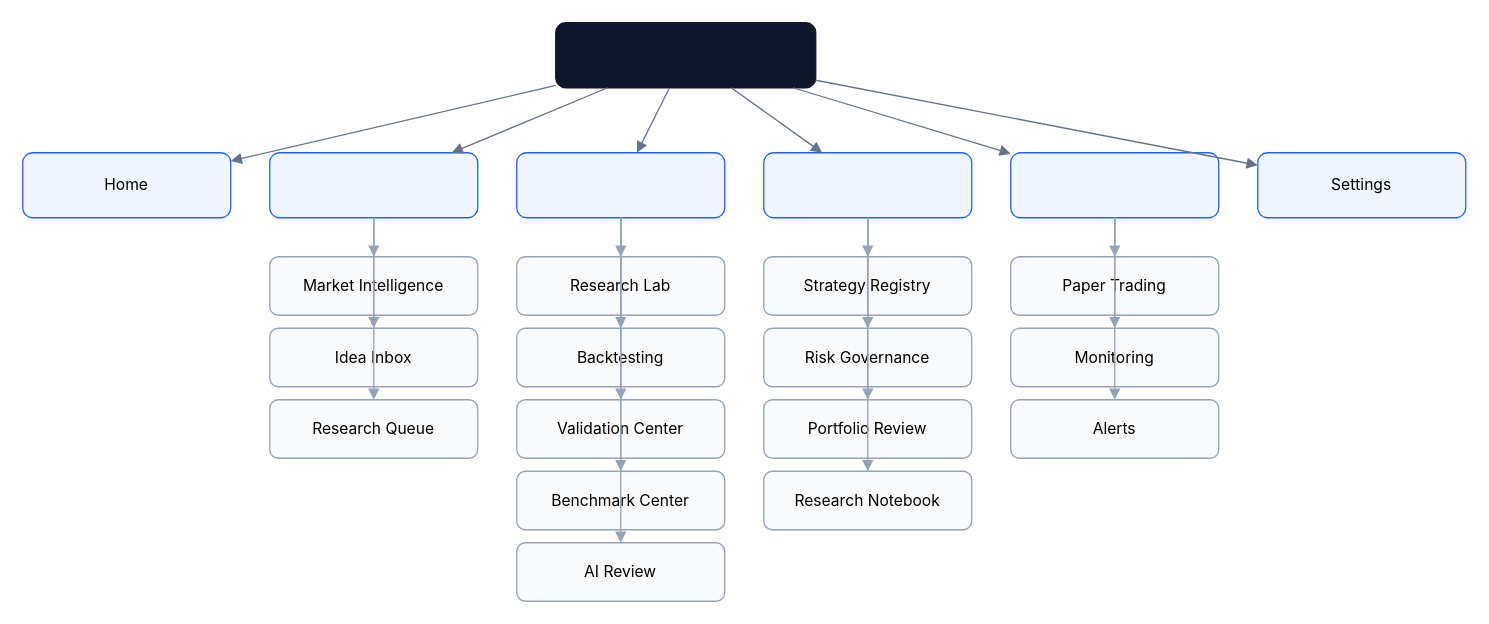
This 1489x624 diagram has some shape labels left out. Here are the shapes that lost their labels. From the top down, the centre of each, then its label:
At point (685, 54): "Workspace".
At point (373, 184): "Discover".
At point (620, 184): "Research".
At point (867, 184): "Govern".
At point (1114, 184): "Operate".
